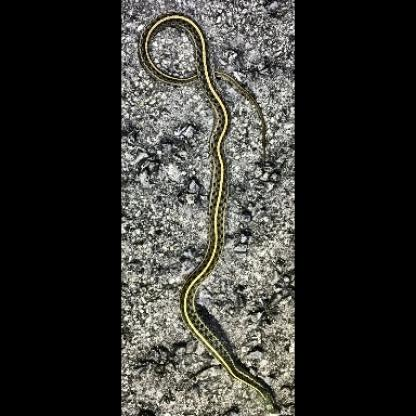Snake: (136, 9, 278, 409)
